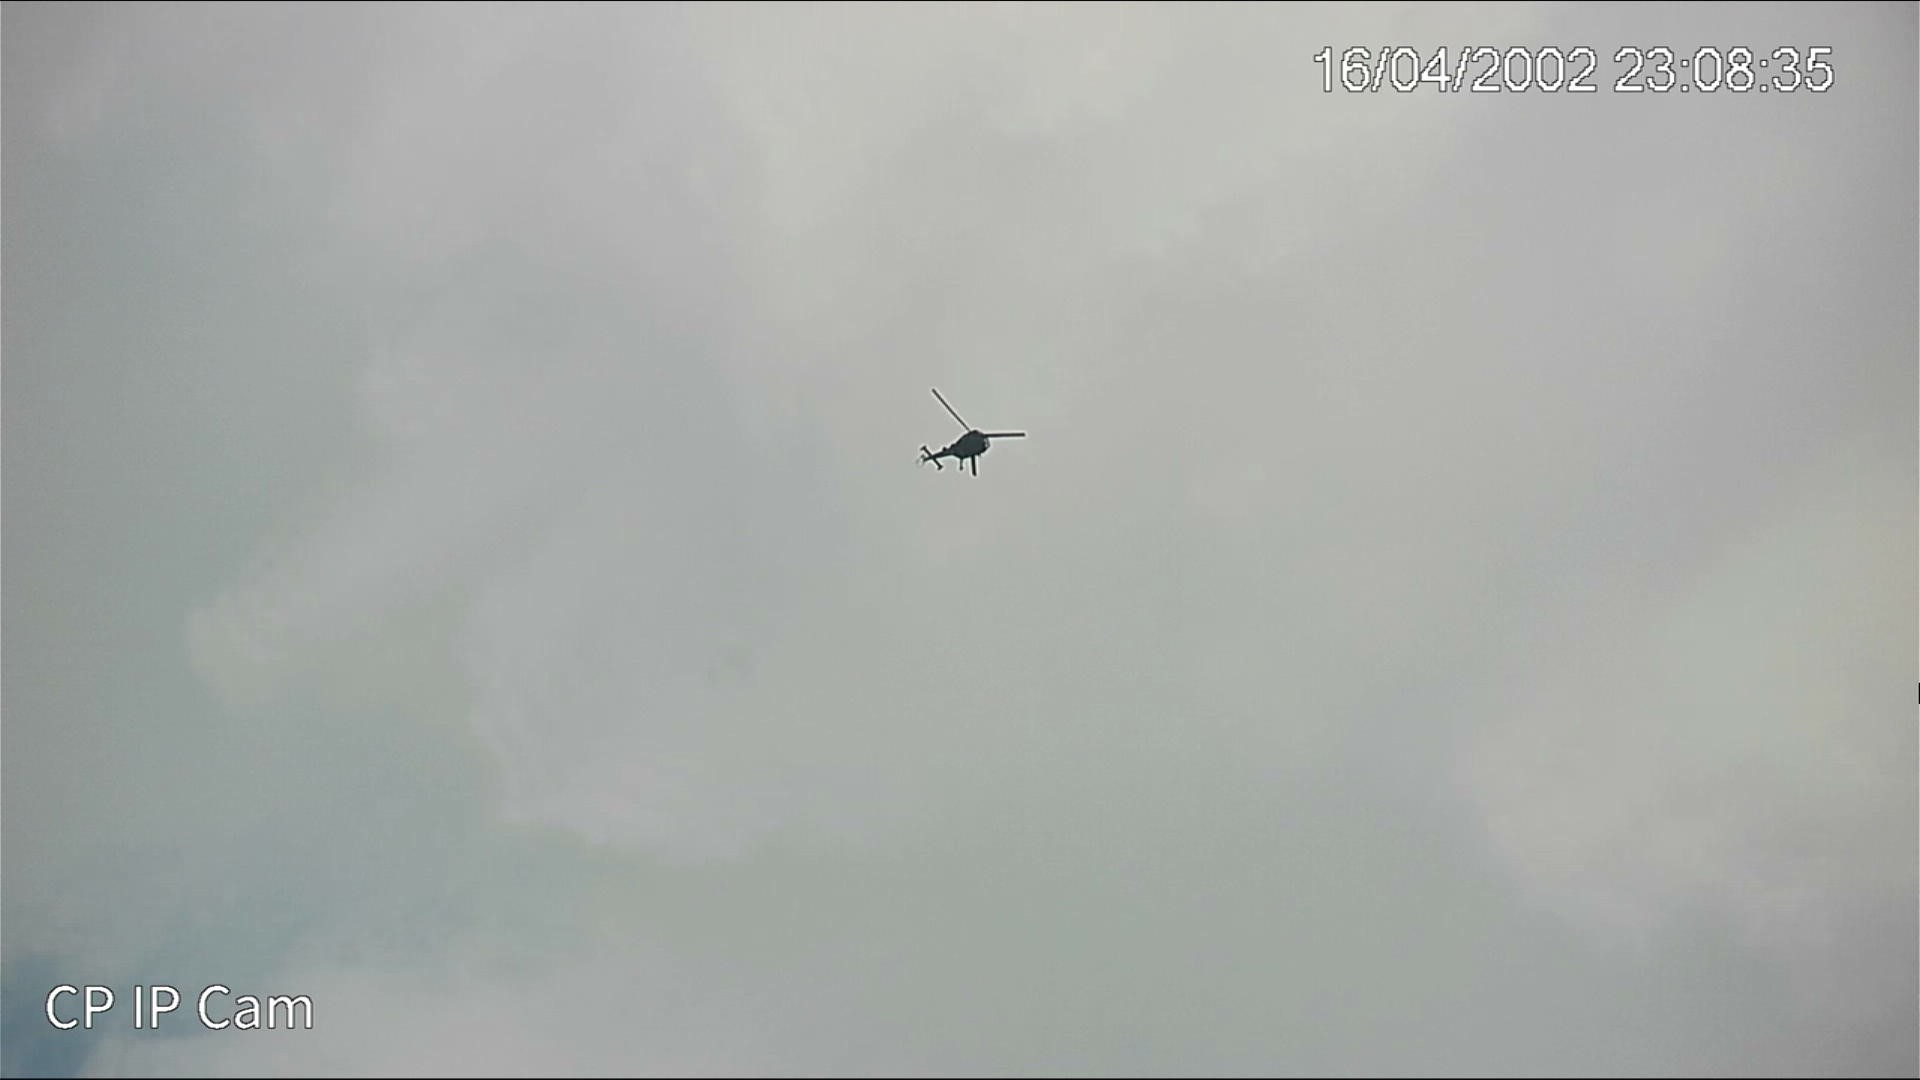SU_30: (906, 419, 1009, 473)
